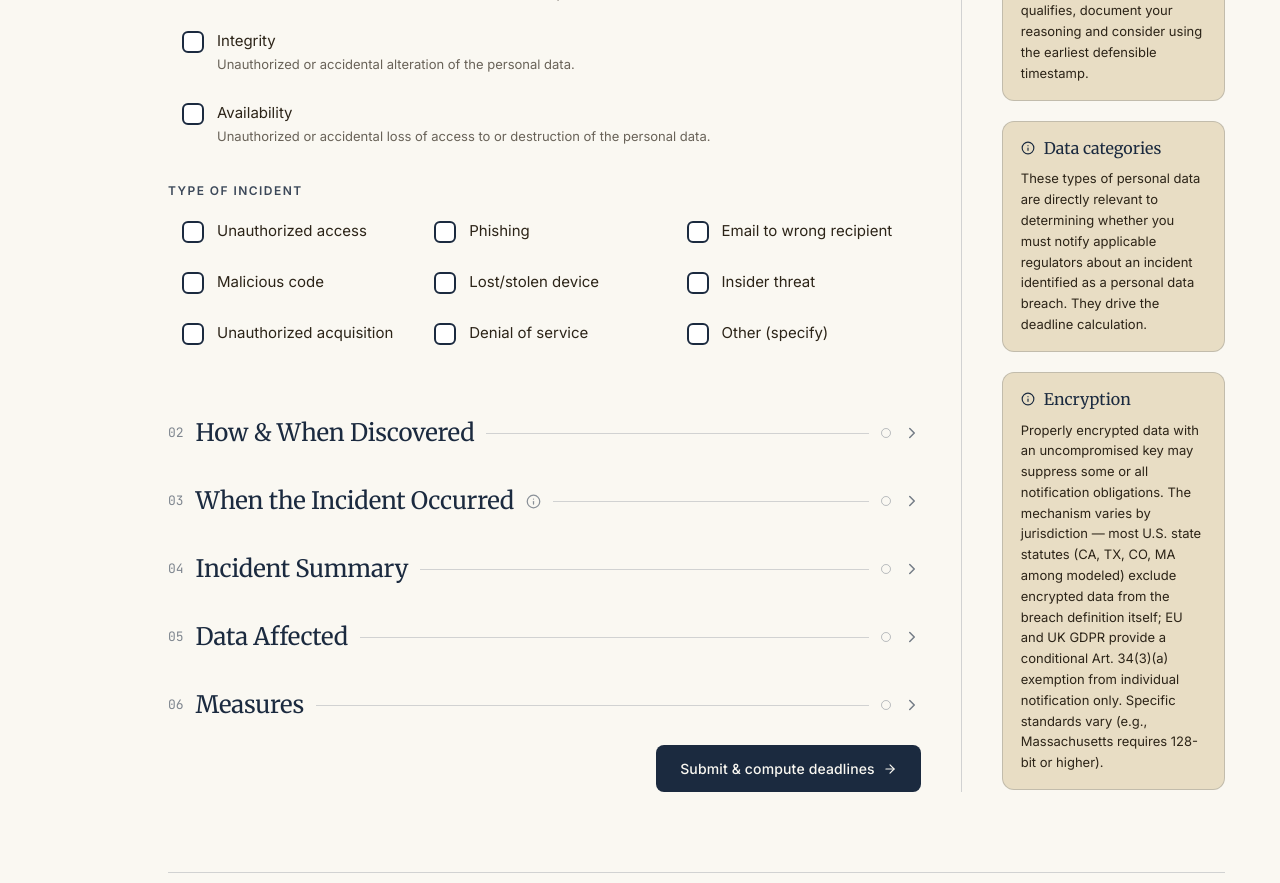
Test: new incident › prefills the zone selector with the device zone as an editable suggestion
(page scrolled)
Click the button "02 How & When Discovered": (335, 433) [168,417,921,448]
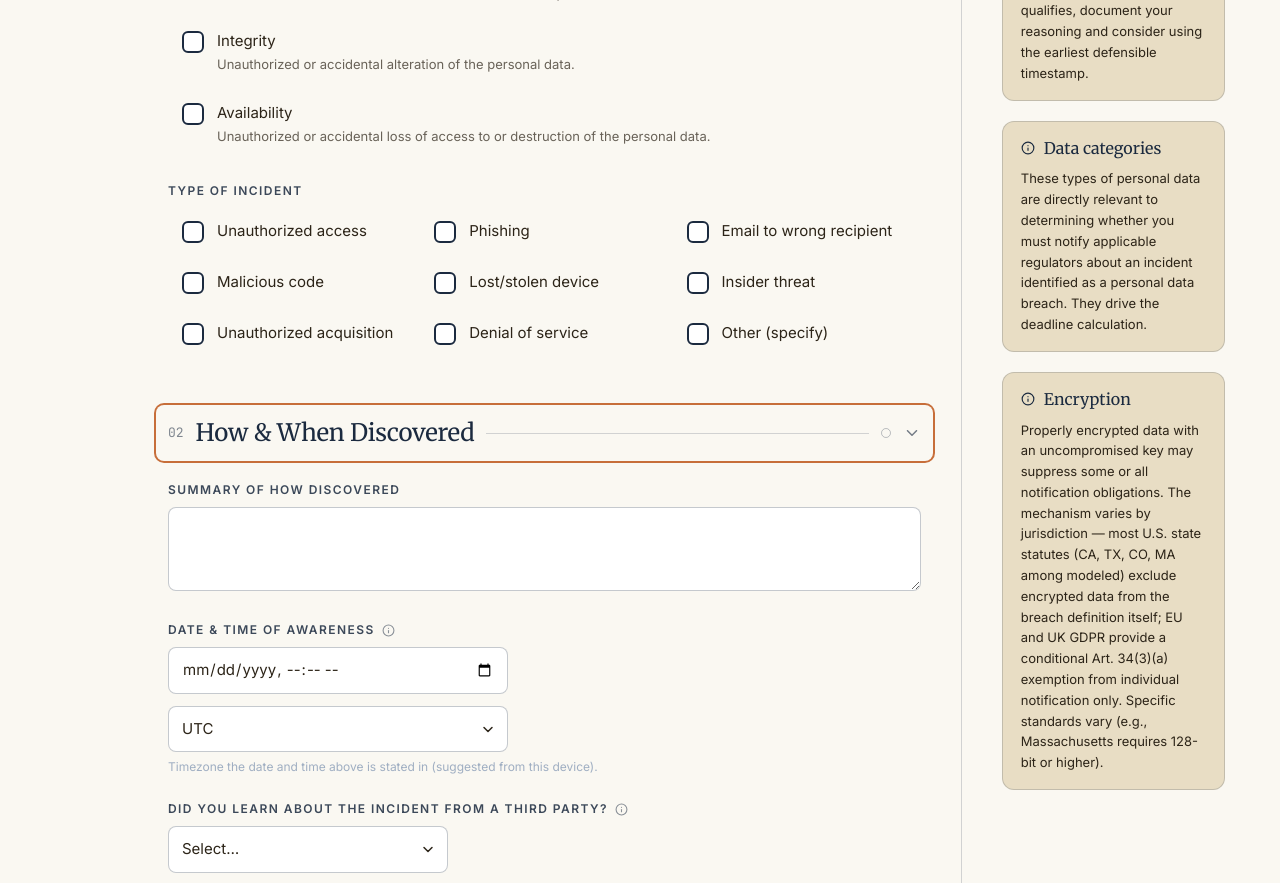
Now the dropdown named "Timezone of awareness" shows "UTC", box [168,706,508,752]
Now the text "suggested from this device" is shown, box [428,759,594,774]
